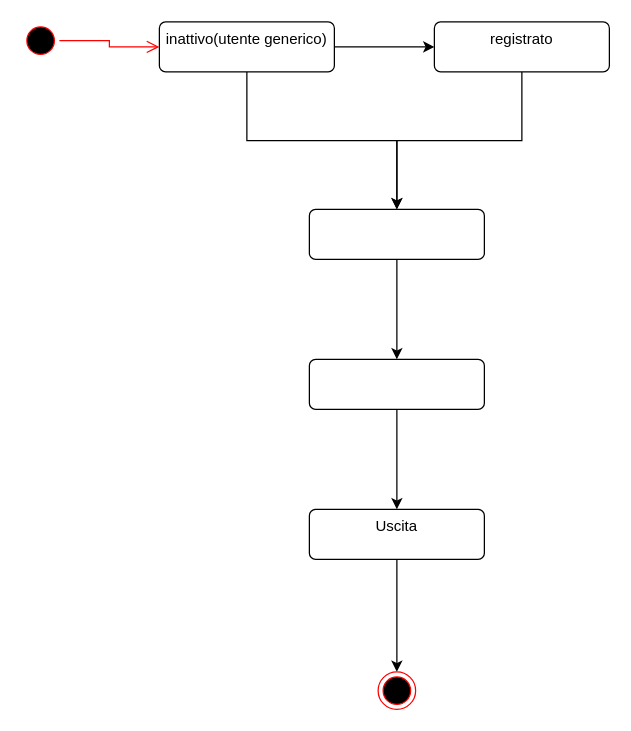
This 631x731 diagram has some shape labels left out. The centre of each missing label's shape, as x and y in pixels:
"Loggato" goes at pixel 396 233.
"operatore registrato" goes at pixel 396 383.
